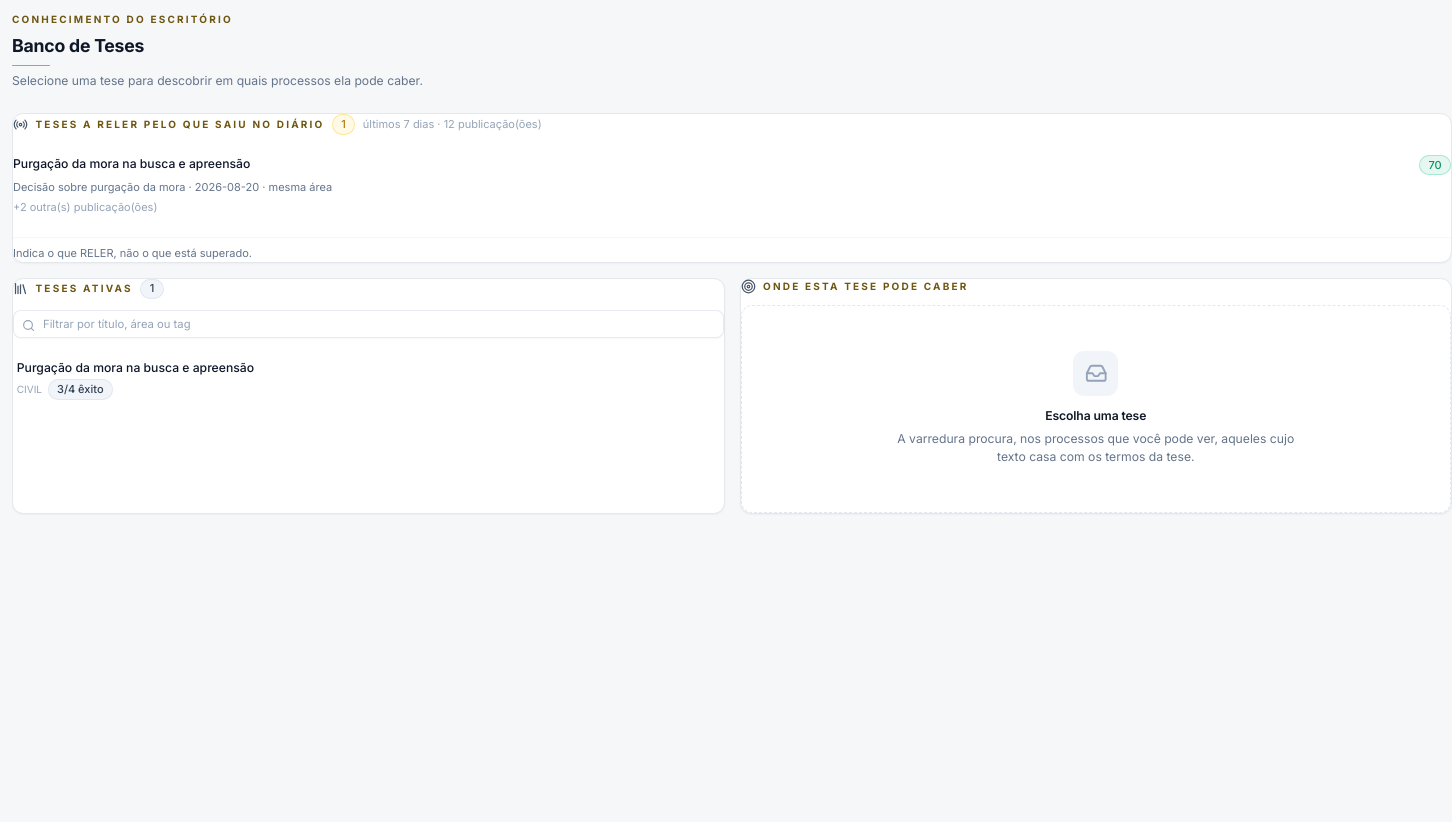
Test: Banco de Teses › avisa quando o teto de varredura foi atingido
This screenshot has width=1452, height=822.
Click the text "Purgação da mora na busca e apreensão": {"x": 135, "y": 367} [17,360,254,375]
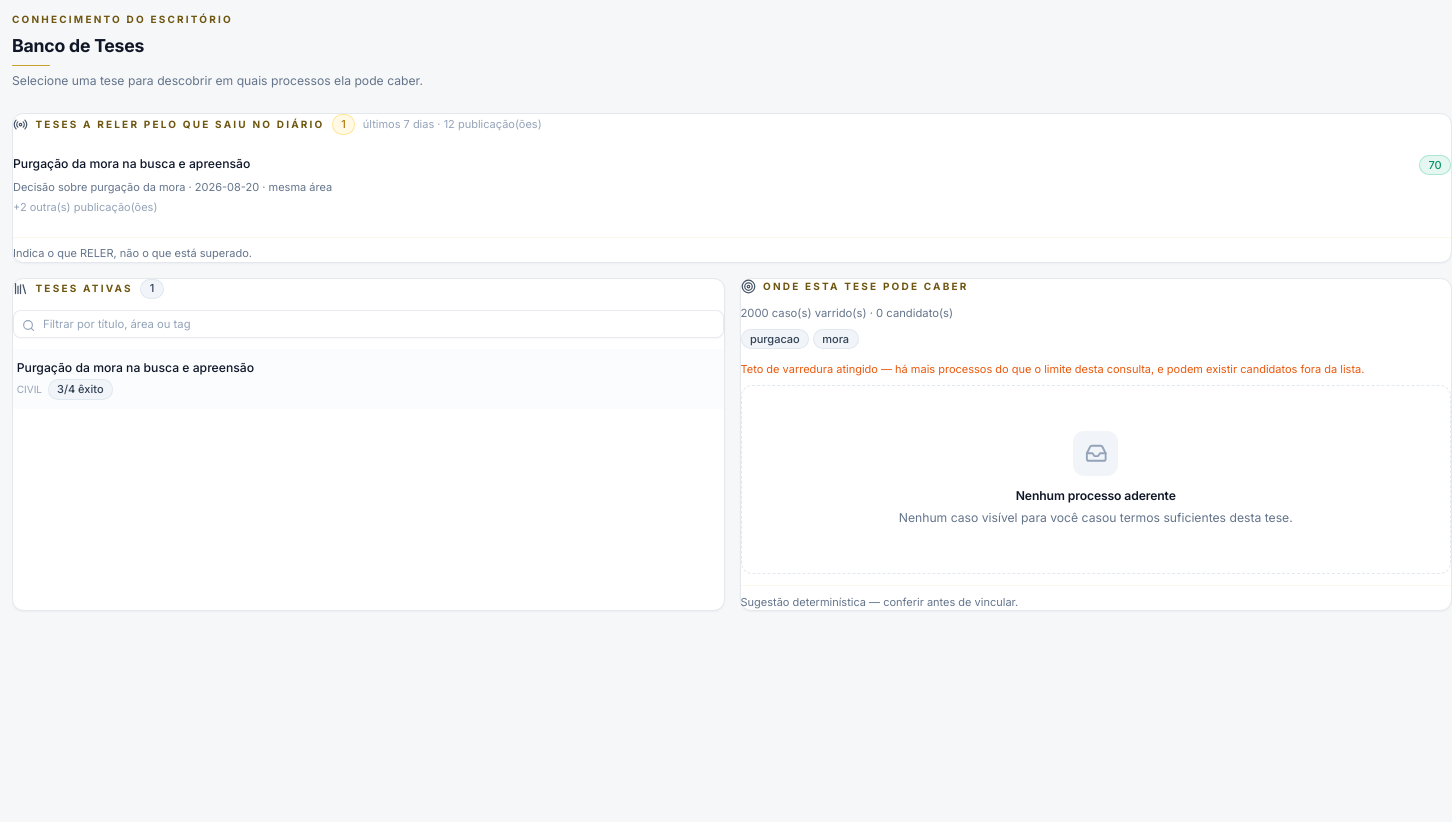
Check: the text "Teto de varredura atingido" is shown, box [740,362,1364,376]
